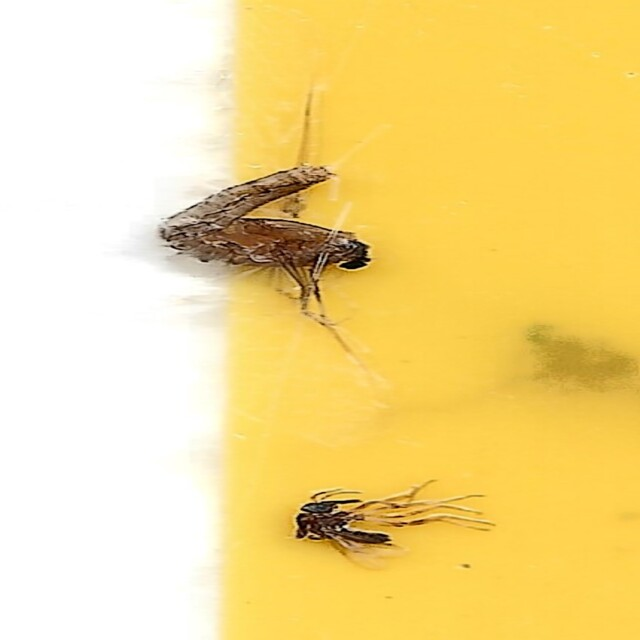Brachycera: (287, 482, 491, 572)
Ephemeroptera: (149, 68, 420, 403)
